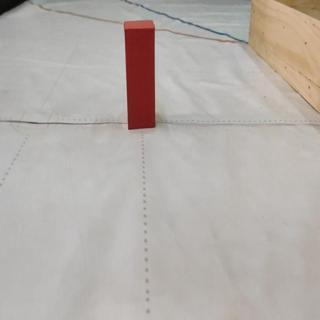redbox: (123, 19, 156, 130)
